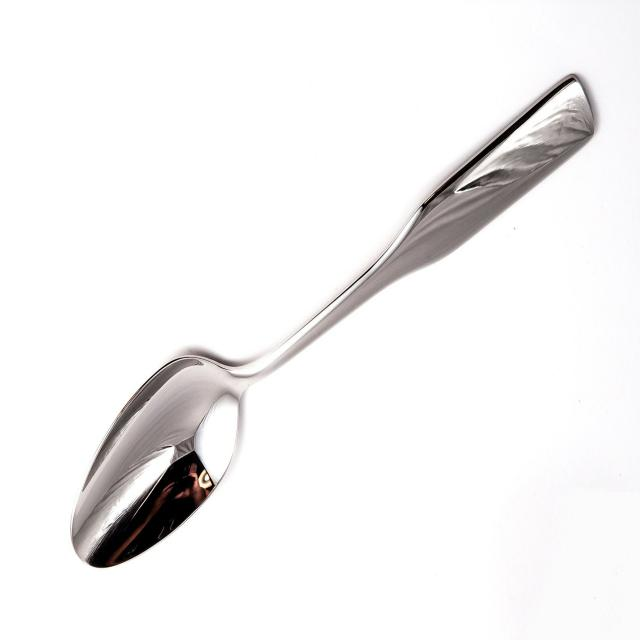spoon: (67, 44, 607, 598)
